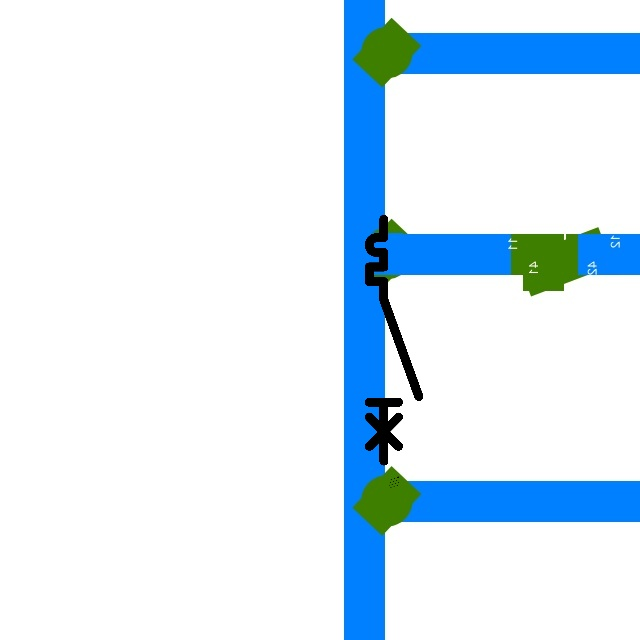interruptor_termomagnetico: (363, 213, 425, 467)
